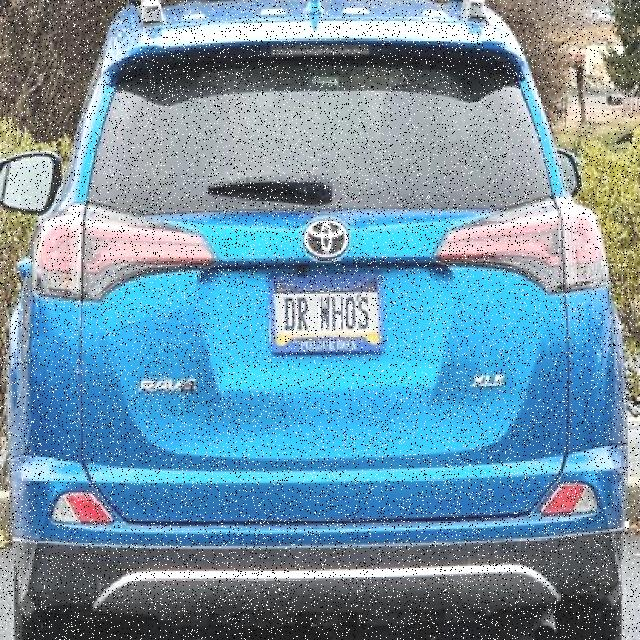licenseplate: (268, 270, 386, 357)
